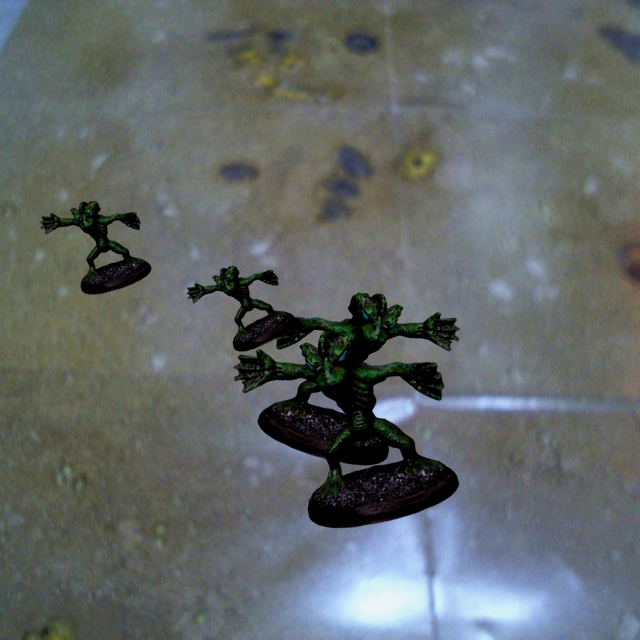pieza_juego: (234, 331, 458, 527), (257, 292, 459, 464), (40, 201, 151, 294), (186, 266, 294, 351)
